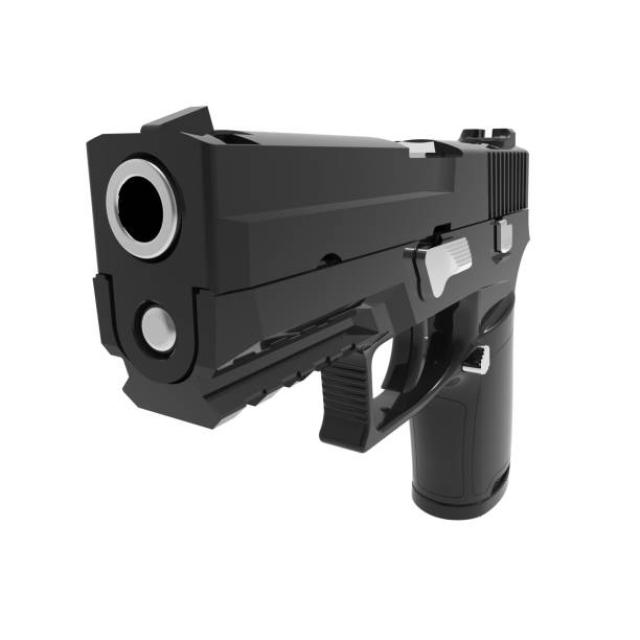pistol: (74, 85, 532, 532)
